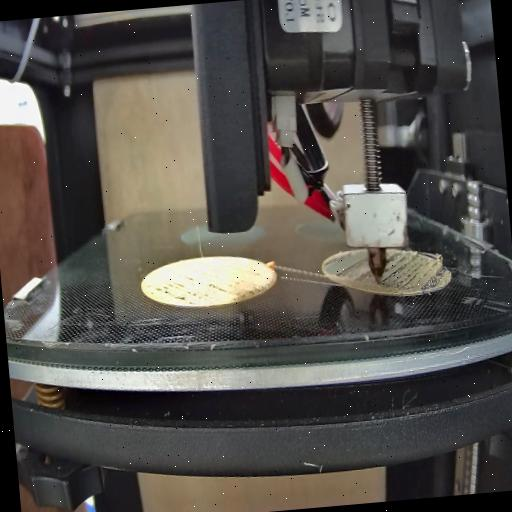under_extrusion: (382, 245, 450, 296), (147, 270, 227, 304), (230, 272, 276, 302), (334, 252, 370, 286)
